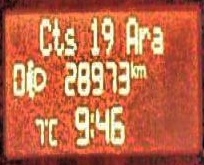0: (12, 60, 25, 94)
1: (89, 13, 99, 54)
2: (63, 60, 76, 94)
3: (118, 59, 129, 93)
4: (94, 106, 109, 143)
6: (109, 104, 124, 144)
7: (105, 59, 117, 93), (33, 116, 44, 146)
8: (77, 58, 90, 94)
9: (74, 104, 89, 147), (100, 13, 114, 54), (89, 59, 103, 96)
X: (125, 14, 138, 54), (38, 16, 51, 56), (51, 17, 63, 54), (63, 24, 76, 56), (137, 24, 150, 53), (150, 24, 163, 53), (48, 114, 57, 145), (88, 110, 94, 138), (129, 59, 136, 79), (136, 63, 145, 78)
